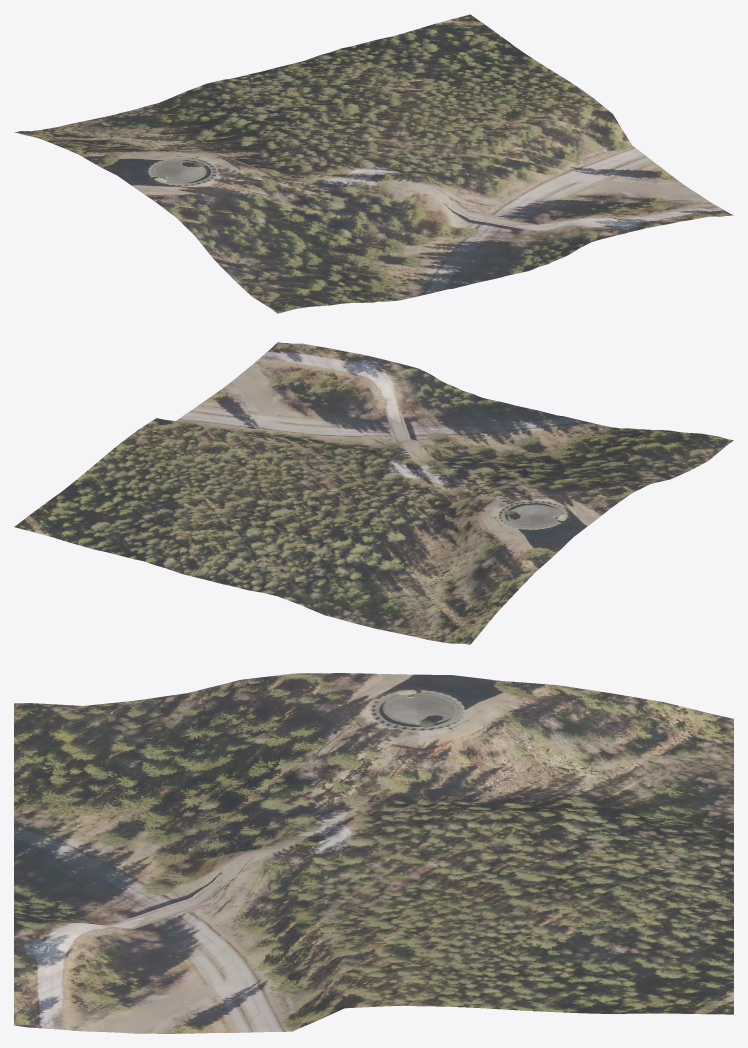
Rendered from CM_Terrain_24489025_6822456.fbx.
3 renders of one model, top to bottom at view 1: azimuth 30°, elevation 25°; view 2: azimuth 150°, elevation 25°; view 3: azimuth 270°, elevation 25°, orthographic. The views are drawn at different scales.
Visible parts, largest first — view 1: CM_Terrain_24489025_6822456_LOD0; view 2: CM_Terrain_24489025_6822456_LOD0; view 3: CM_Terrain_24489025_6822456_LOD0.
Part boxes in pixels (box(x1,y1,x2,y2)): CM_Terrain_24489025_6822456_LOD0: box(14, 14, 733, 313); CM_Terrain_24489025_6822456_LOD0: box(14, 342, 733, 644); CM_Terrain_24489025_6822456_LOD0: box(14, 673, 733, 1033).
Size of what is drawn, in the model's own units: 205 by 17.76 by 205.
